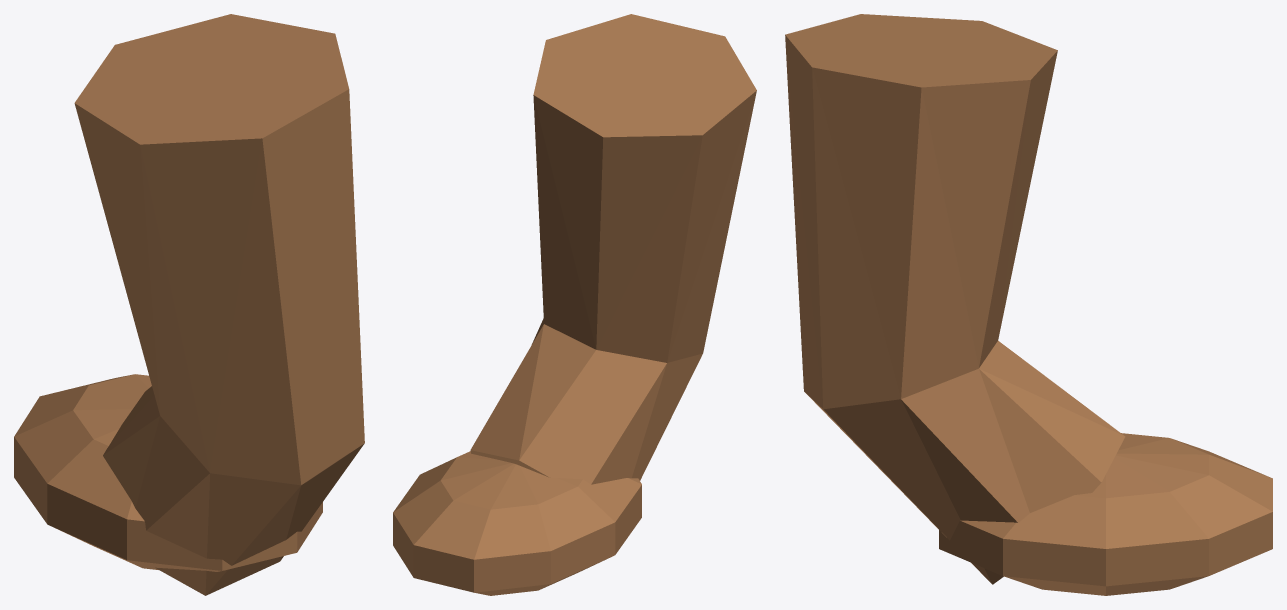
Rendered from gorehulk_e_leg_1.obj.
3 renders of one model, left to right at view 1: azimuth 30°, elevation 25°; view 2: azimuth 150°, elevation 25°; view 3: azimuth 270°, elevation 25°, orthographic. The views are drawn at different scales.
Parts seen in each view (by area): view 1: gorehulk_e_leg_1; view 2: gorehulk_e_leg_1; view 3: gorehulk_e_leg_1.
Boxes of the visible parts, x1,y1,x2,y2 form: gorehulk_e_leg_1: [14, 14, 364, 595]; gorehulk_e_leg_1: [393, 14, 756, 595]; gorehulk_e_leg_1: [785, 14, 1272, 595].
Bounding box in the file's own units: 0.2919 × 0.5576 × 0.4759.
